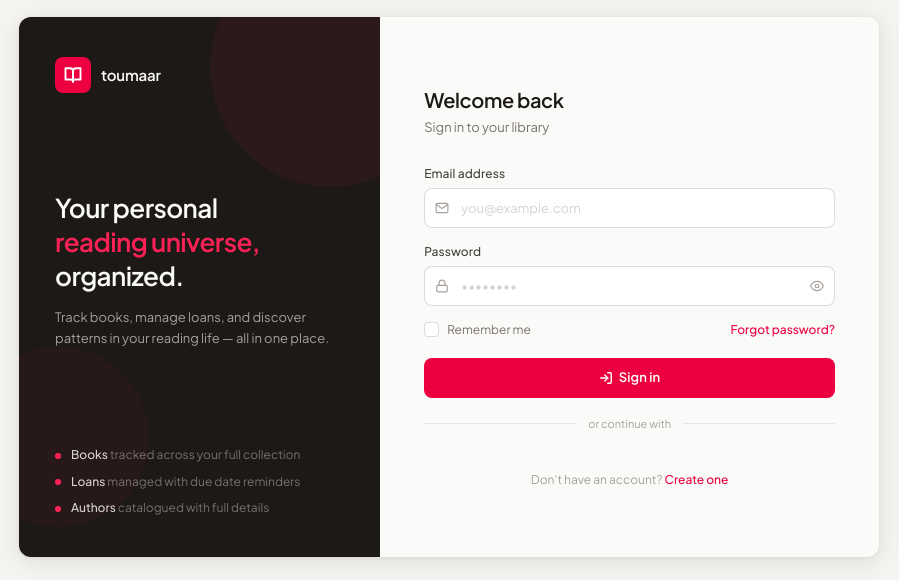
Test: LoginPage › shows an error when submitted with both fields empty
This screenshot has width=899, height=580.
Click the button "Sign in".
click(630, 378)  # box [424, 358, 835, 398]
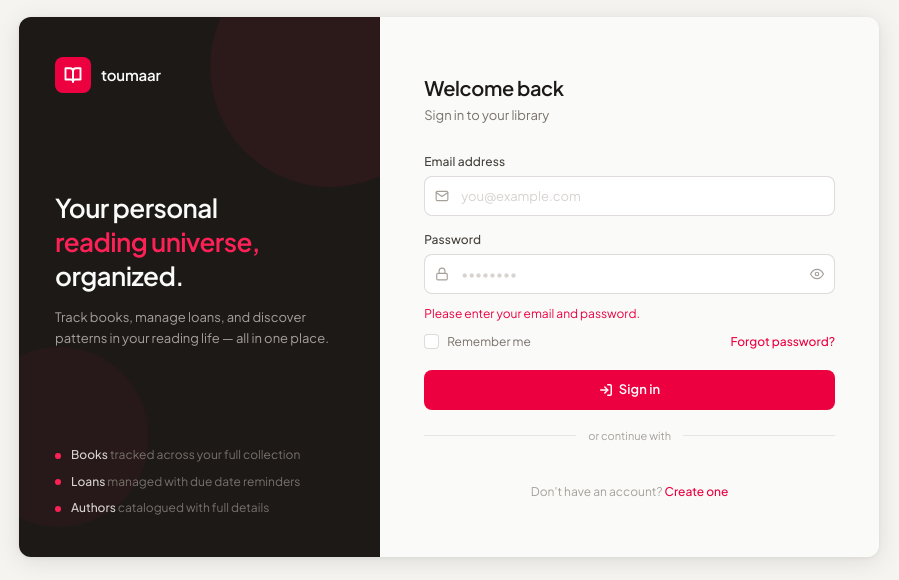
expect the text "Please enter your email and password." is shown: met, box [424, 306, 640, 320]
